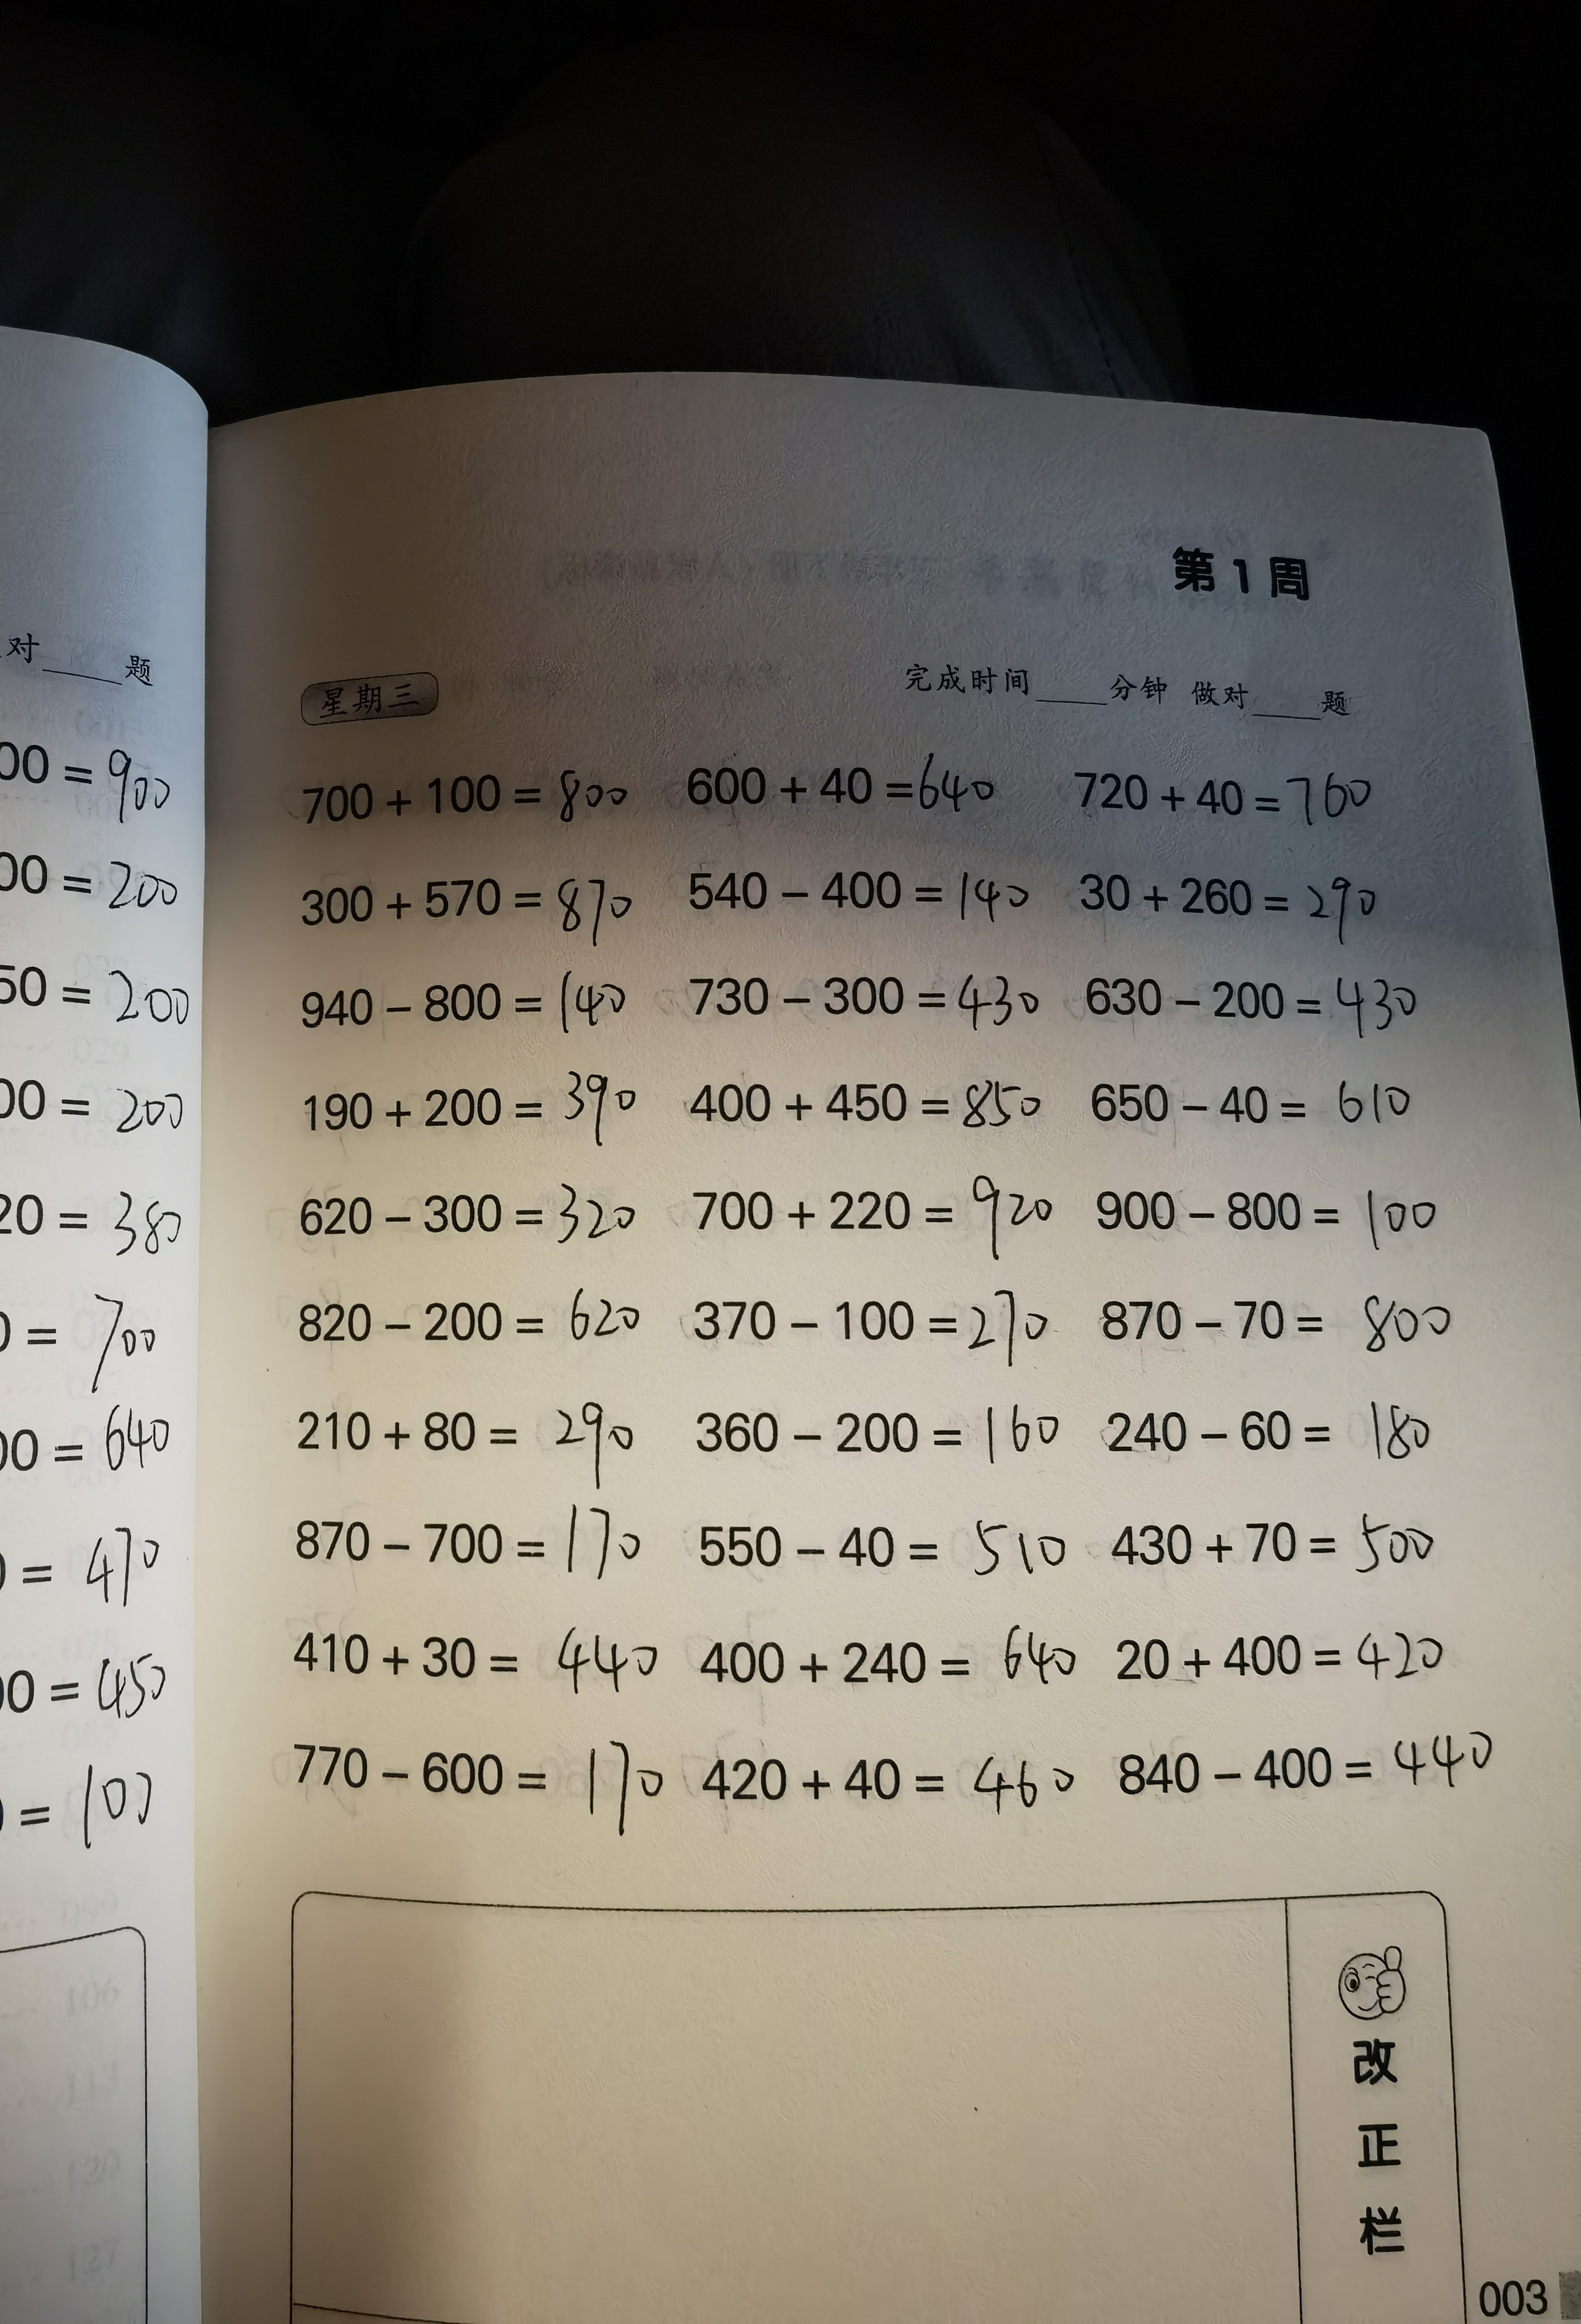equation: (288, 1728, 676, 1839), (690, 1731, 1094, 1835), (690, 948, 1052, 1059), (293, 1611, 671, 1713), (1080, 956, 1468, 1053), (273, 752, 649, 849), (1117, 1615, 1473, 1712), (683, 852, 1045, 948), (291, 1385, 642, 1481), (676, 1503, 1082, 1585), (701, 1613, 1098, 1696), (1075, 852, 1401, 953), (693, 1173, 1062, 1262), (672, 745, 1016, 838), (683, 1071, 1053, 1158), (688, 1279, 1050, 1368), (284, 1503, 644, 1590), (293, 866, 667, 949), (284, 971, 667, 1050), (1115, 1509, 1456, 1597), (1076, 1071, 1426, 1156), (1106, 1392, 1454, 1477), (261, 1188, 671, 1258), (1110, 1736, 1519, 1807), (1087, 1285, 1454, 1362), (1057, 761, 1390, 845), (288, 1073, 644, 1149), (270, 1292, 653, 1362), (1092, 1173, 1456, 1246), (695, 1408, 1071, 1473)
